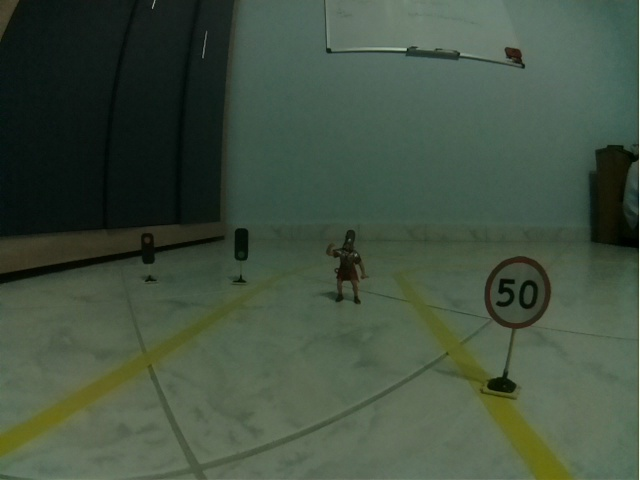Green Traffic Light: (234, 227, 248, 261)
Person: (326, 228, 370, 305)
Red Traffic Light: (141, 232, 155, 264)
Speed Limit 50: (485, 256, 551, 328)
